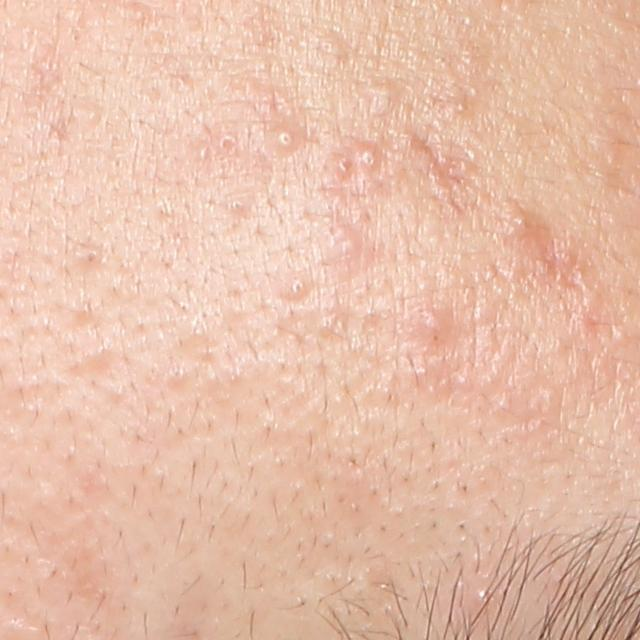comedo: (367, 79, 402, 117), (283, 270, 312, 299), (214, 130, 240, 156), (78, 246, 102, 267), (132, 5, 154, 26), (227, 193, 247, 216), (452, 99, 472, 117), (84, 105, 103, 123)
papule: (502, 203, 549, 246), (407, 305, 448, 339)
